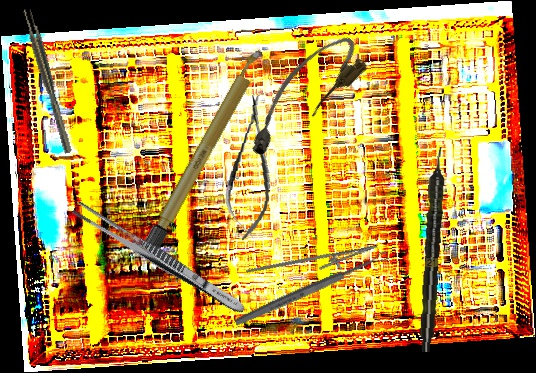Cannula: (230, 26, 374, 165)
Dressing Forceps: (70, 199, 249, 318)
Handpiece: (416, 146, 450, 353)
Micro Scissor: (220, 91, 282, 243)
Needle Holder: (245, 229, 381, 298)
Scalpel Handle: (143, 45, 268, 252)
Surgical Spoon: (233, 250, 390, 328)
Tissue Forceps: (21, 7, 73, 155)
